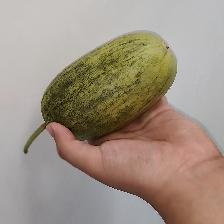gua: (75, 55, 164, 118)
